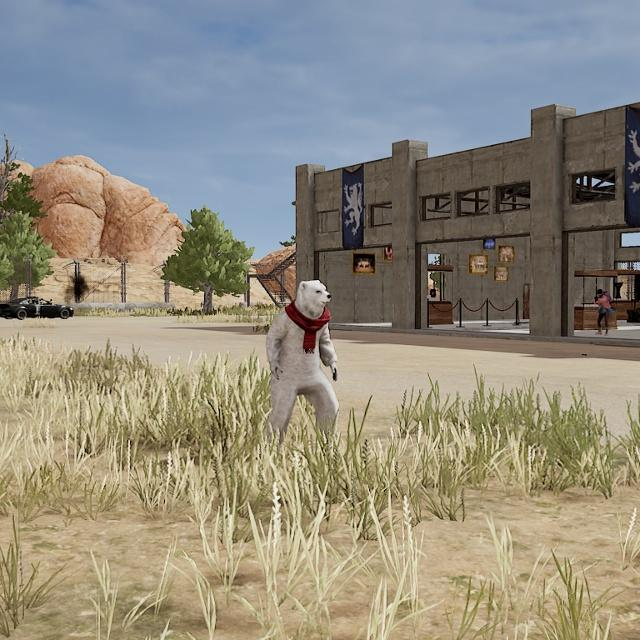head: (294, 278, 334, 317), (595, 287, 607, 299)
people: (264, 276, 347, 462), (591, 286, 615, 339)
